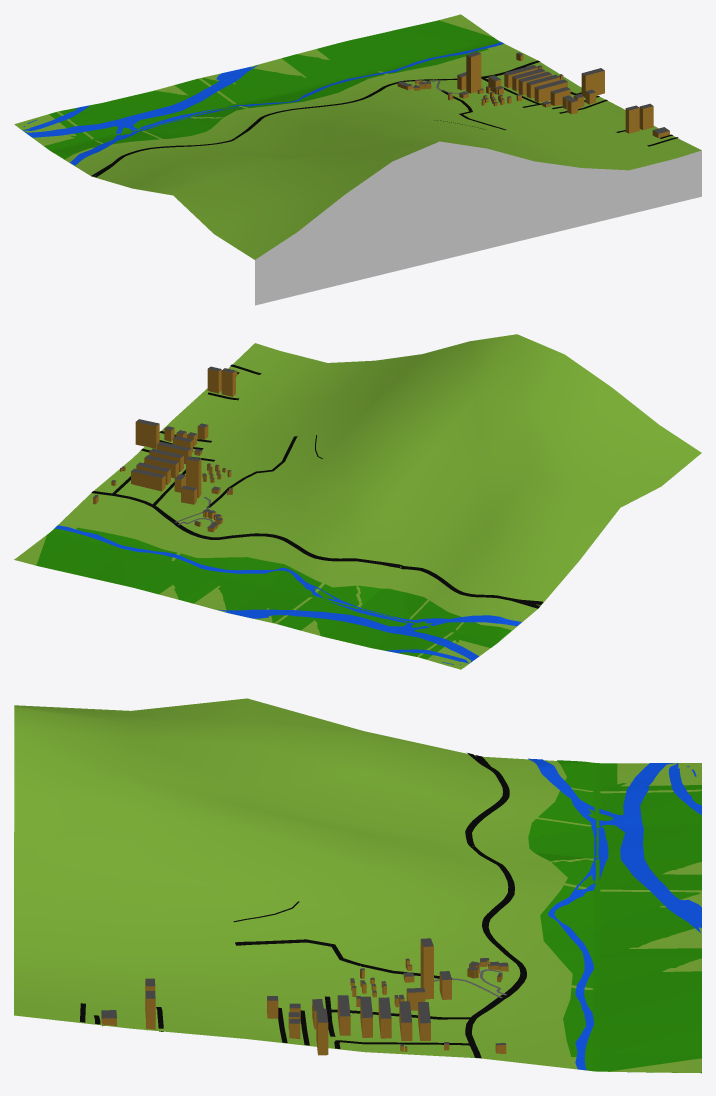
Rendered from tile_02_00.glb.
3 renders of one model, top to bottom at view 1: azimuth 30°, elevation 25°; view 2: azimuth 150°, elevation 25°; view 3: azimuth 270°, elevation 25°, orthographic. The views are drawn at different scales.
Parts seen in each view (by area): view 1: Terrain_02_00, Ub_small.osm_vegetation_02_00, Ub_small.osm_buildings_02_00, Ub_small.osm_water_02_00, Ub_small.osm_roads_primary_02_00, Ub_small.osm_roads_residential_02_00; view 2: Terrain_02_00, Ub_small.osm_vegetation_02_00, Ub_small.osm_buildings_02_00, Ub_small.osm_water_02_00, Ub_small.osm_roads_primary_02_00, Ub_small.osm_roads_residential_02_00; view 3: Terrain_02_00, Ub_small.osm_vegetation_02_00, Ub_small.osm_water_02_00, Ub_small.osm_buildings_02_00, Ub_small.osm_roads_primary_02_00, Ub_small.osm_roads_residential_02_00.
Boxes of the visible parts, bbox=[...] form: Terrain_02_00: bbox=[14, 14, 701, 305]; Ub_small.osm_vegetation_02_00: bbox=[44, 14, 500, 159]; Ub_small.osm_buildings_02_00: bbox=[397, 51, 669, 137]; Ub_small.osm_water_02_00: bbox=[22, 42, 503, 165]; Ub_small.osm_roads_primary_02_00: bbox=[94, 60, 540, 177]; Ub_small.osm_roads_residential_02_00: bbox=[441, 67, 678, 146]; Terrain_02_00: bbox=[15, 334, 701, 669]; Ub_small.osm_vegetation_02_00: bbox=[14, 527, 511, 659]; Ub_small.osm_buildings_02_00: bbox=[93, 366, 237, 532]; Ub_small.osm_water_02_00: bbox=[54, 525, 521, 665]; Ub_small.osm_roads_primary_02_00: bbox=[91, 491, 543, 604]; Ub_small.osm_roads_residential_02_00: bbox=[112, 364, 297, 507]; Terrain_02_00: bbox=[14, 698, 701, 1072]; Ub_small.osm_vegetation_02_00: bbox=[528, 760, 701, 1073]; Ub_small.osm_water_02_00: bbox=[528, 758, 701, 1070]; Ub_small.osm_buildings_02_00: bbox=[101, 938, 508, 1055]; Ub_small.osm_roads_primary_02_00: bbox=[465, 753, 526, 1058]; Ub_small.osm_roads_residential_02_00: bbox=[80, 939, 473, 1048].
Bounding box in the file's own units: 999 × 249 × 913.
